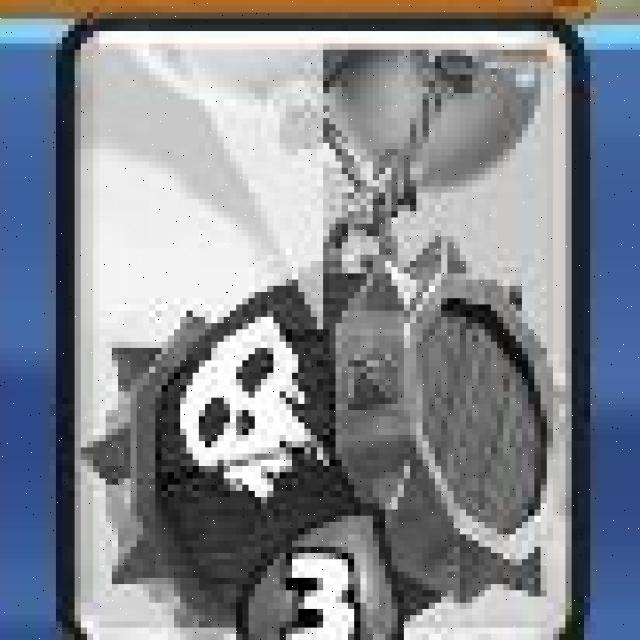Skeleton_Barrel: (47, 14, 587, 640)
